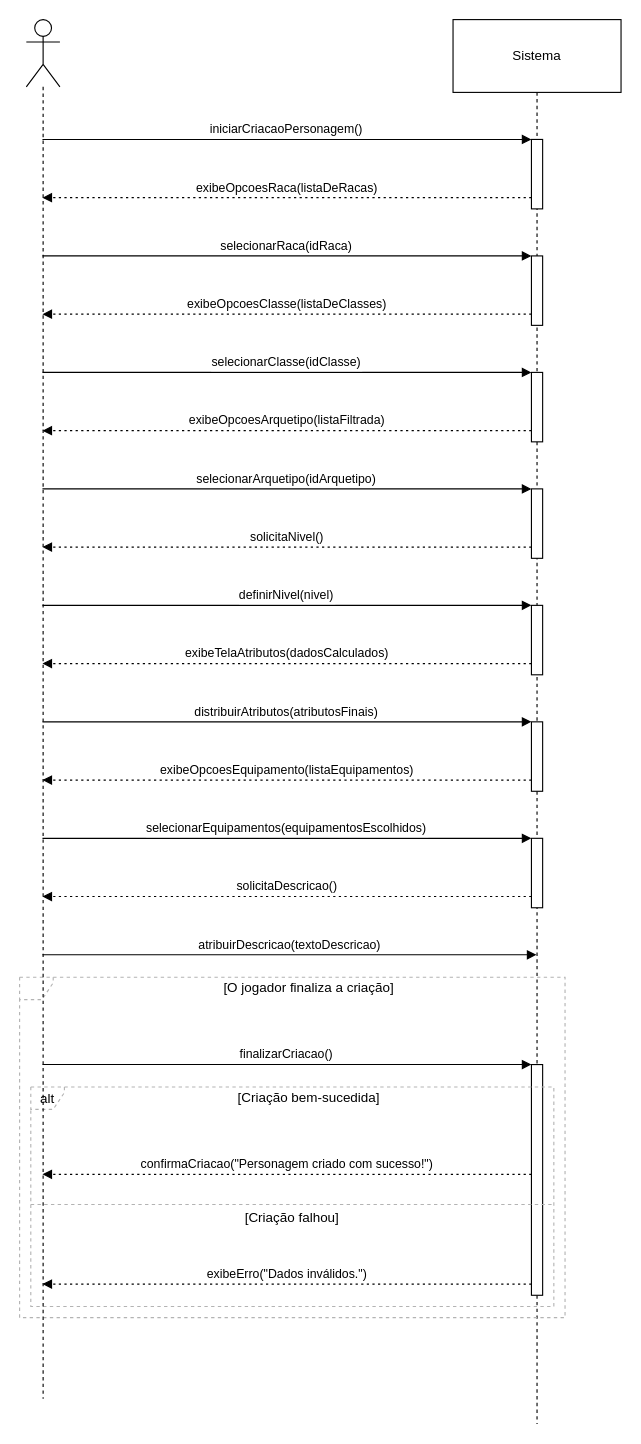
The diagram is 641 pixels wide and 1444 high, and some of its shapes have lost their labels. Here are the shapes that lost their labels. From the top down, the box of each, then its label:
(25, 18, 60, 87): Actor
(18, 976, 565, 1318): opt
